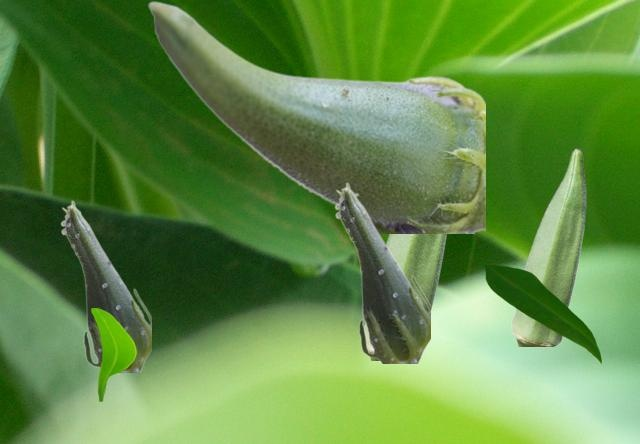okra: (147, 0, 484, 232), (334, 182, 429, 362), (60, 200, 150, 371), (511, 148, 585, 345), (364, 233, 447, 359)
